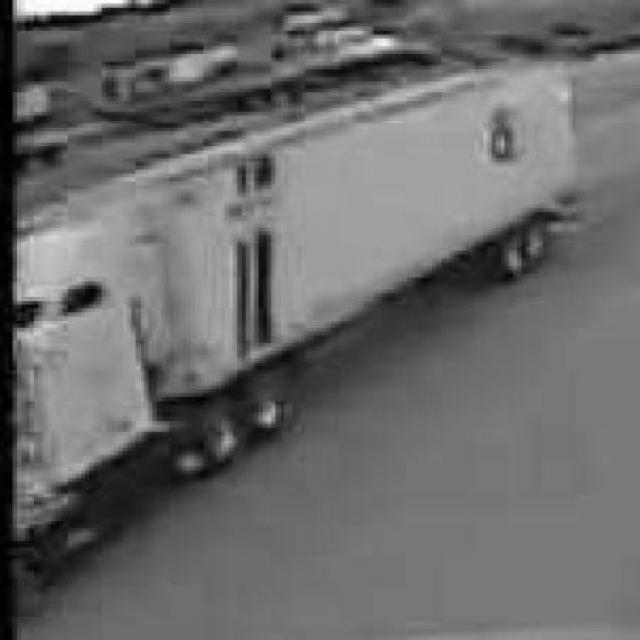Box Truck: (12, 58, 585, 617)
